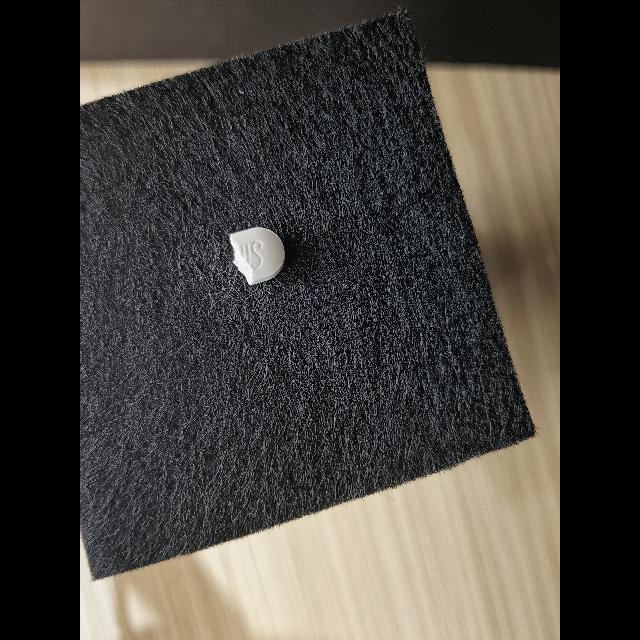Chipped Pill: (230, 227, 285, 286)
